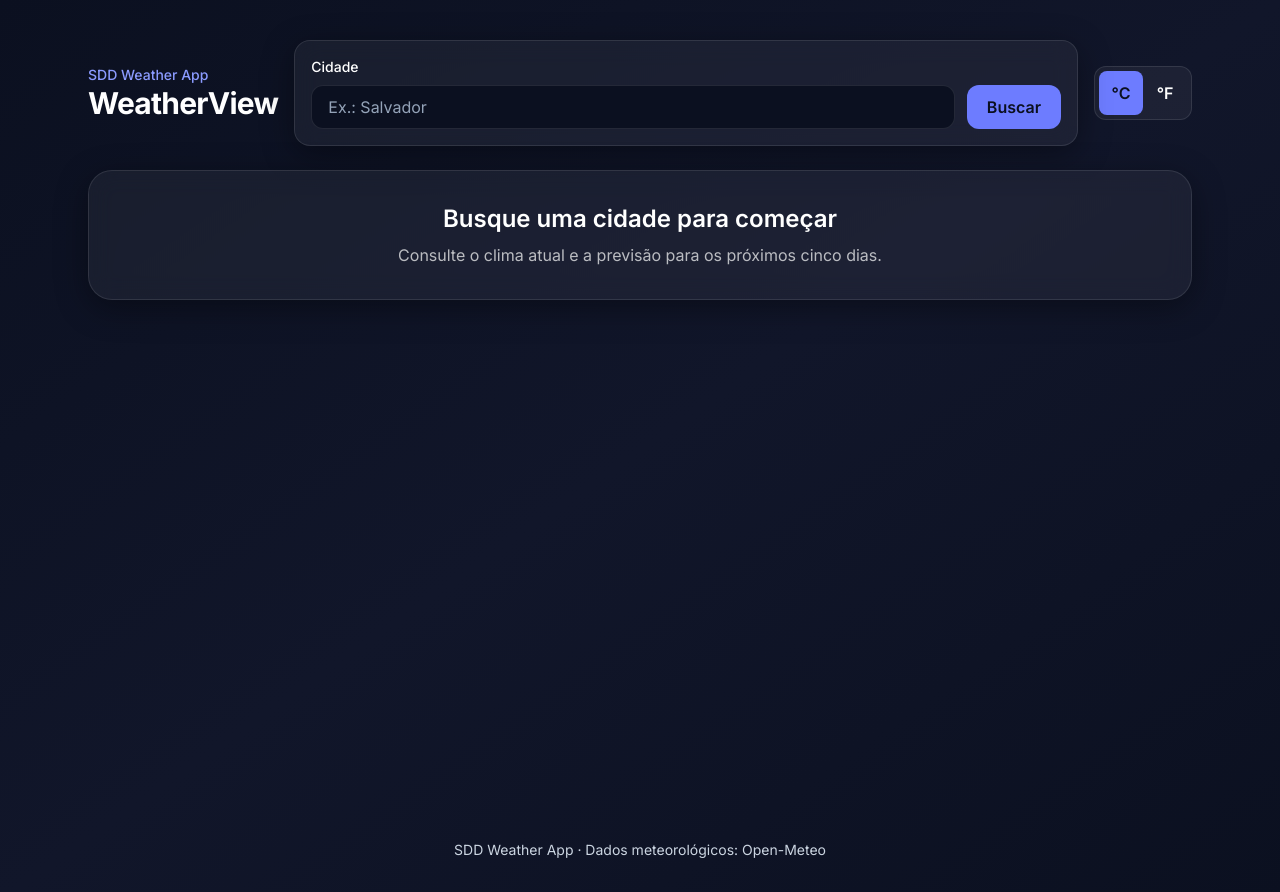
Test: App › exibe erro de search e repete a busca pelo retry preservando a unidade
Click the button "°F".
click(1165, 93)  # box [1143,71,1187,115]
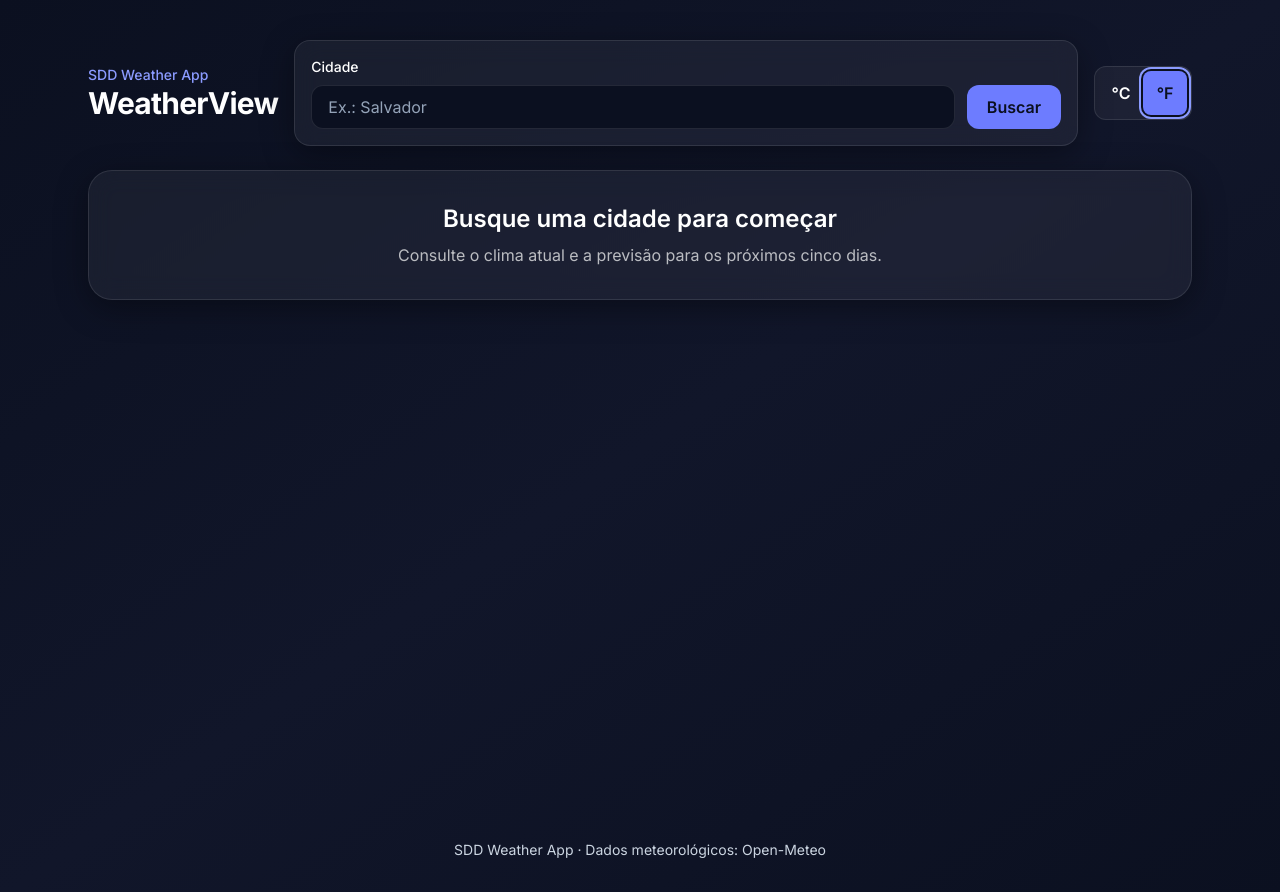
Type "Recife" into the search field.
click(633, 107); type("Recife")  # box [311,85,955,129]
Then press Enter
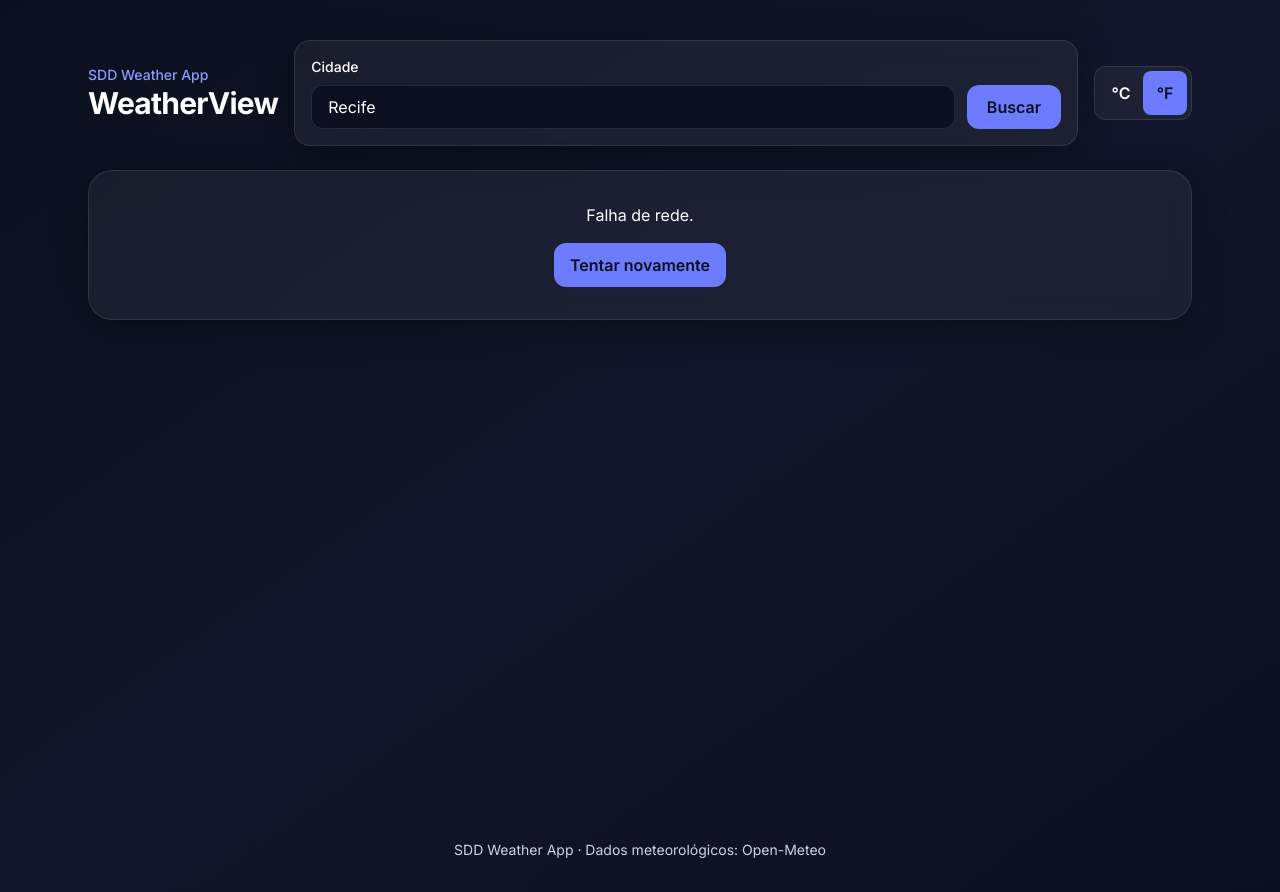
Expected: the message reads "Falha de rede.", [586,205,694,225]
Click the button "Tentar novamente".
click(640, 265)  # box [554,243,726,287]
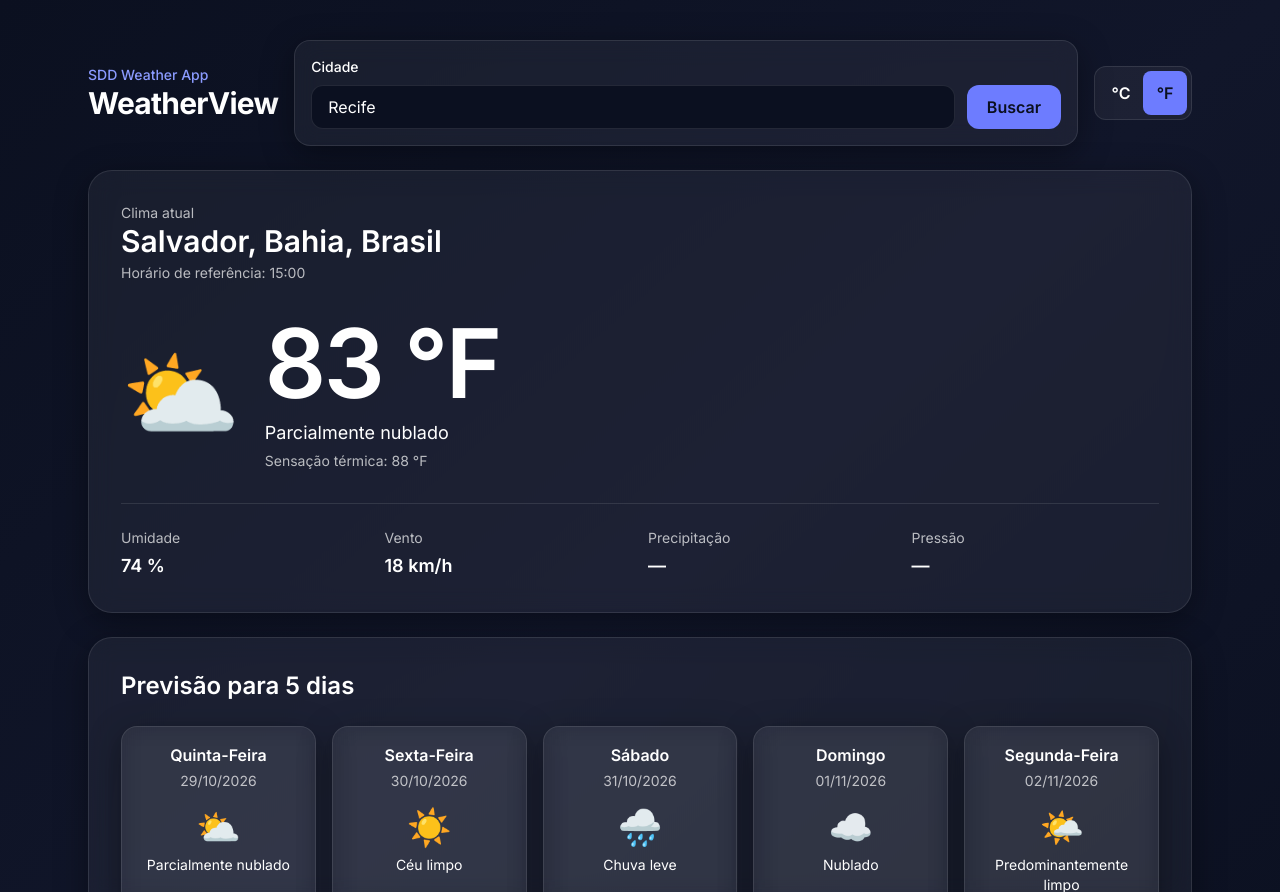
Expected: the element "Salvador, Bahia, Brasil" is shown, [88,170,1192,613]
Expected: the message "Falha de rede." is gone
Expected: the text "83 °F" is shown, [265,315,500,411]
